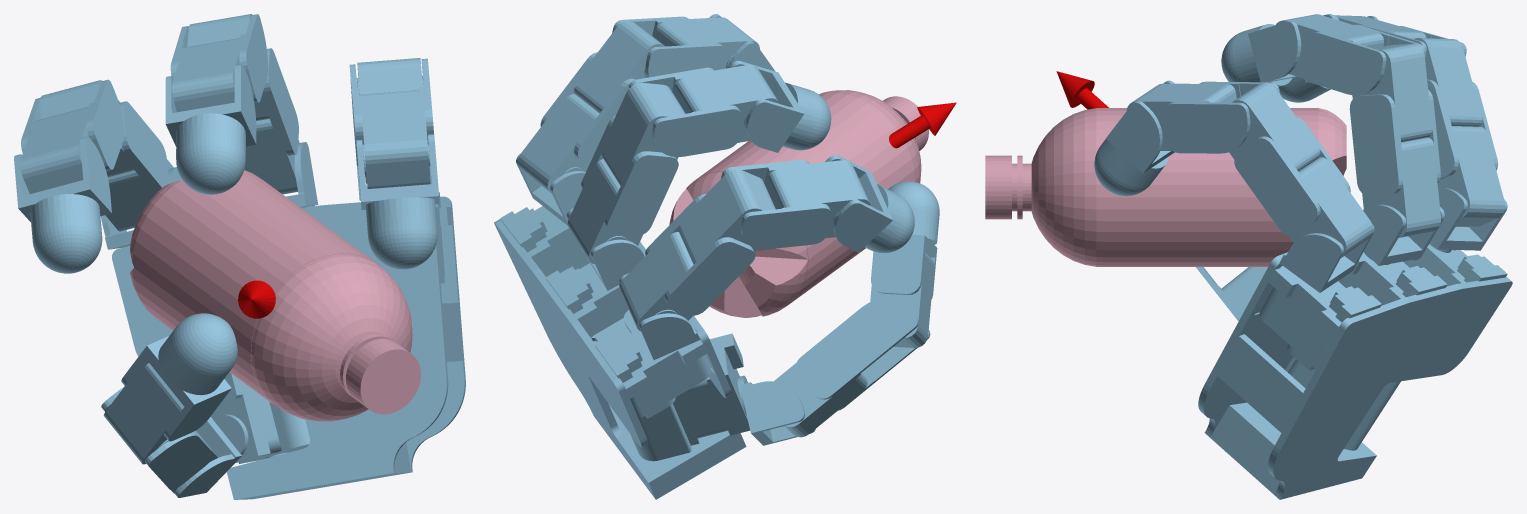
3 views of the same model, side by side, from view 1: azimuth 30°, elevation 25°; view 2: azimuth 150°, elevation 25°; view 3: azimuth 270°, elevation 25° (orthographic). The views are drawn at different scales.
Visible parts, largest first — view 1: world, water_bottle.stl; view 2: world, water_bottle.stl; view 3: world, water_bottle.stl.
Part boxes in pixels (<box>): world: <box>14,14,465,499</box>; water_bottle.stl: <box>130,170,420,421</box>; world: <box>494,14,956,499</box>; water_bottle.stl: <box>669,90,928,317</box>; world: <box>1056,14,1512,499</box>; water_bottle.stl: <box>985,108,1346,266</box>.
Bounding box in the file's own units: 0.1751 × 0.1808 × 0.1993.
